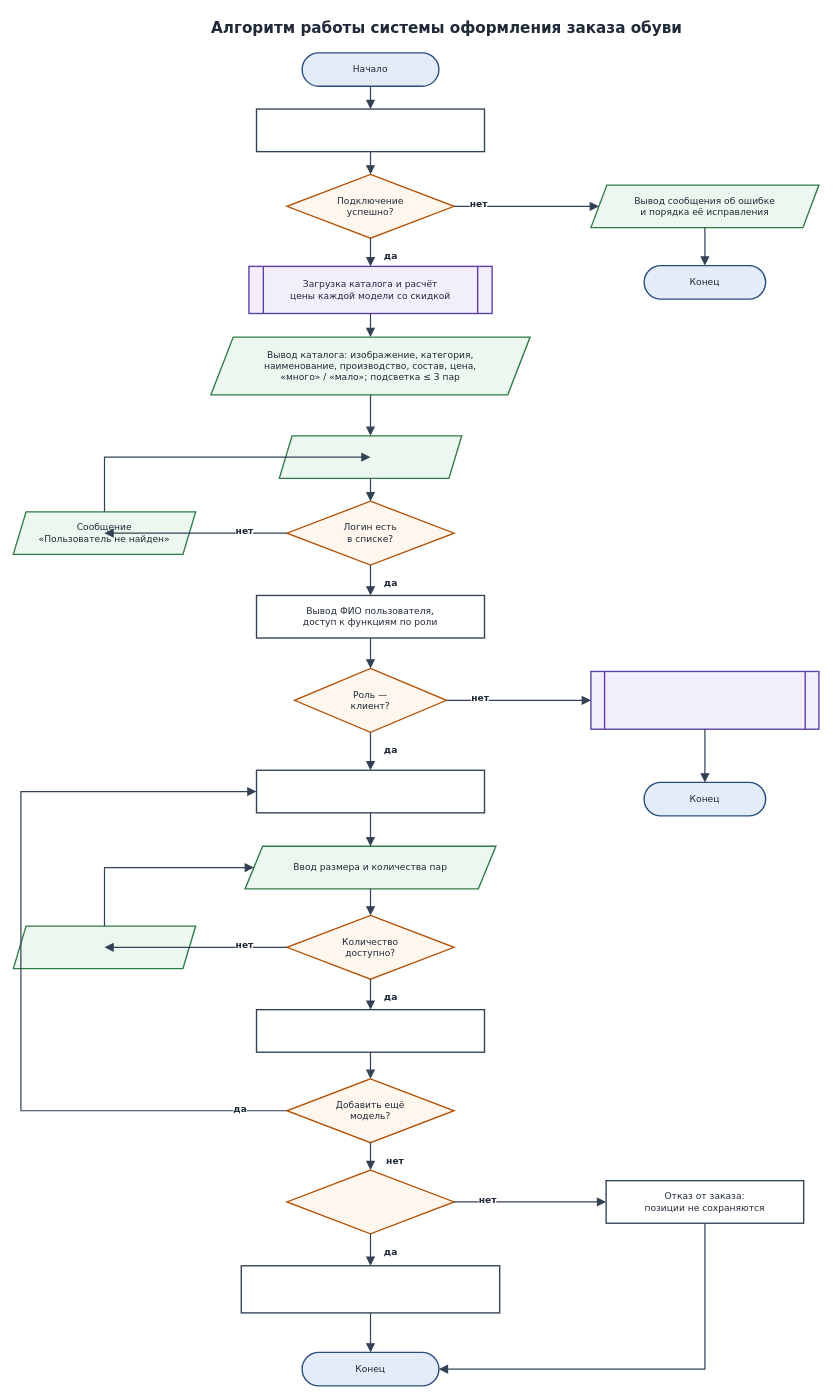
The diagram is 833 pixels wide and 1399 high, and some of its shapes have lost their labels. The shapes that lost their labels are listed below. From the top down, each one's box as (x1, y1, x2, y2) in pixels, then its label:
(255, 108, 485, 152): Запуск приложения, подключение к базе данных
(278, 435, 462, 479): Ввод логина
(590, 670, 819, 730): Работа со списком заказов: просмотр, добавление, удаление, редактирование
(255, 769, 485, 813): Поиск, фильтр, сортировка; выбор модели в каталоге
(12, 925, 196, 969): Сообщение «Нет нужного количества»
(255, 1009, 485, 1053): Добавить позицию в заказ
(286, 1169, 454, 1234): Подтвердить заказ?
(240, 1265, 500, 1313): Сохранить заказ с датой, уменьшить остатки, обновить каталог
